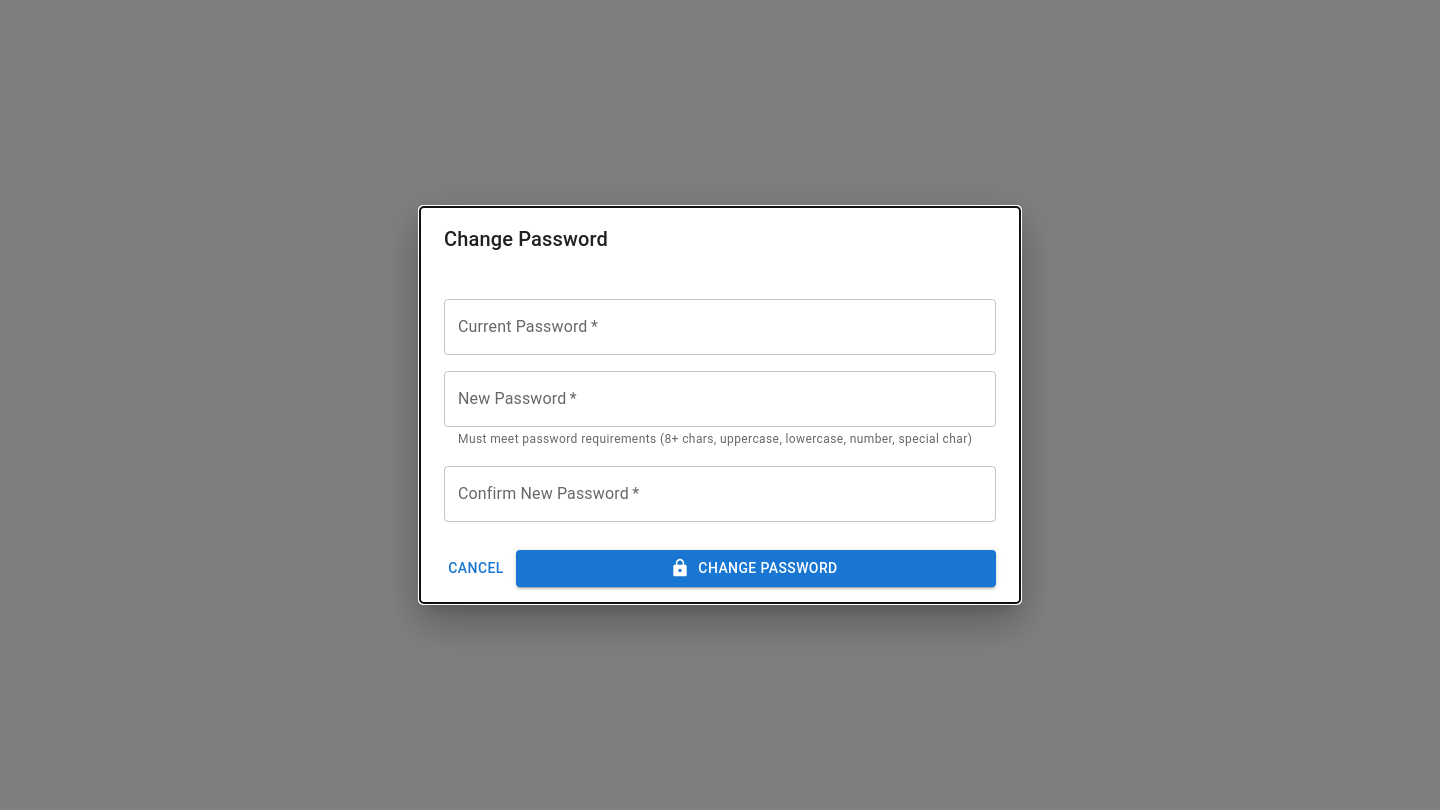
Test: ChangePasswordForm › should validate confirm password is required
Type "CurrentPass123!" into the password field labelled "Current Password *" at (720, 327), box [444, 299, 996, 355]
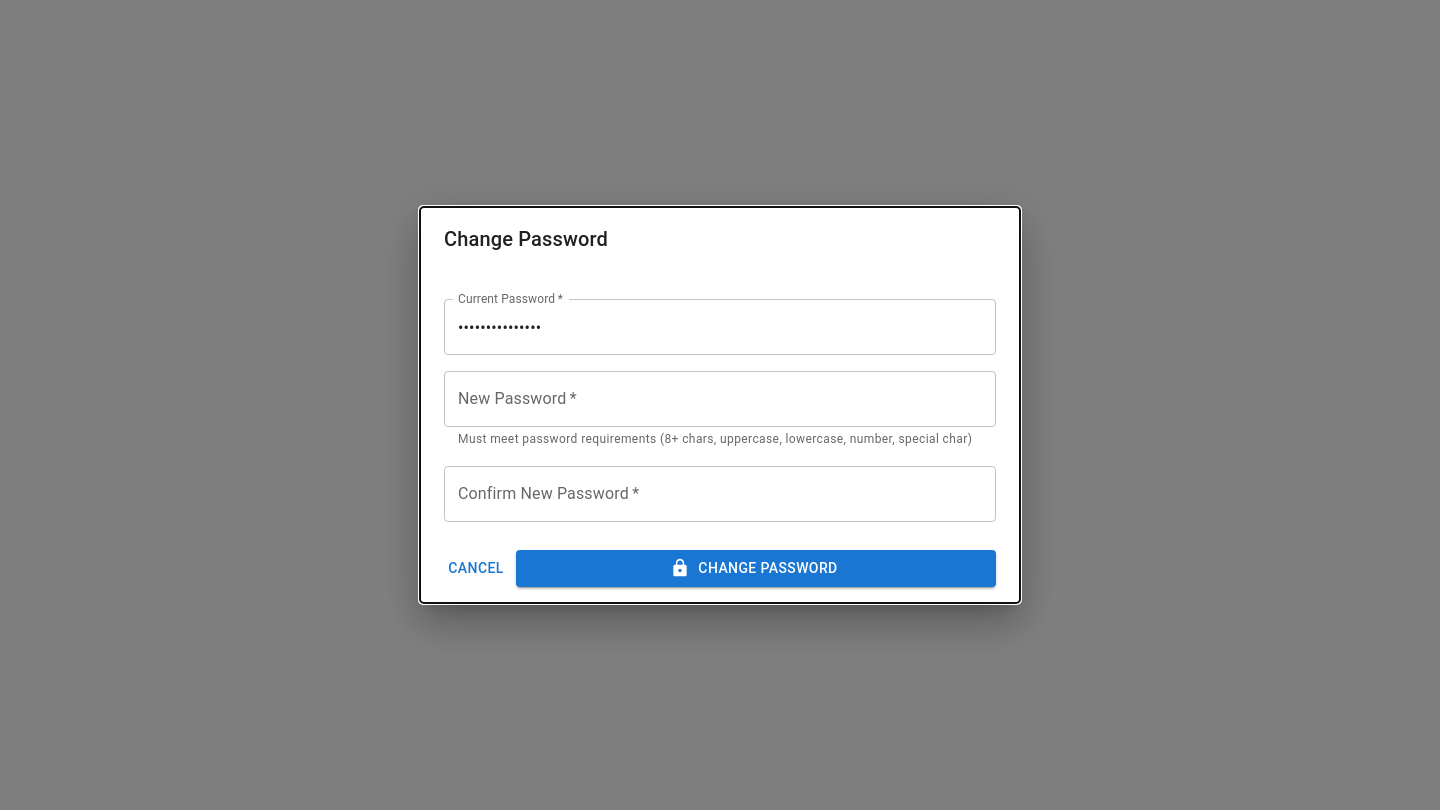
Type "NewPass123!" into the password field labelled "New Password *" at (720, 399), box [444, 371, 996, 427]
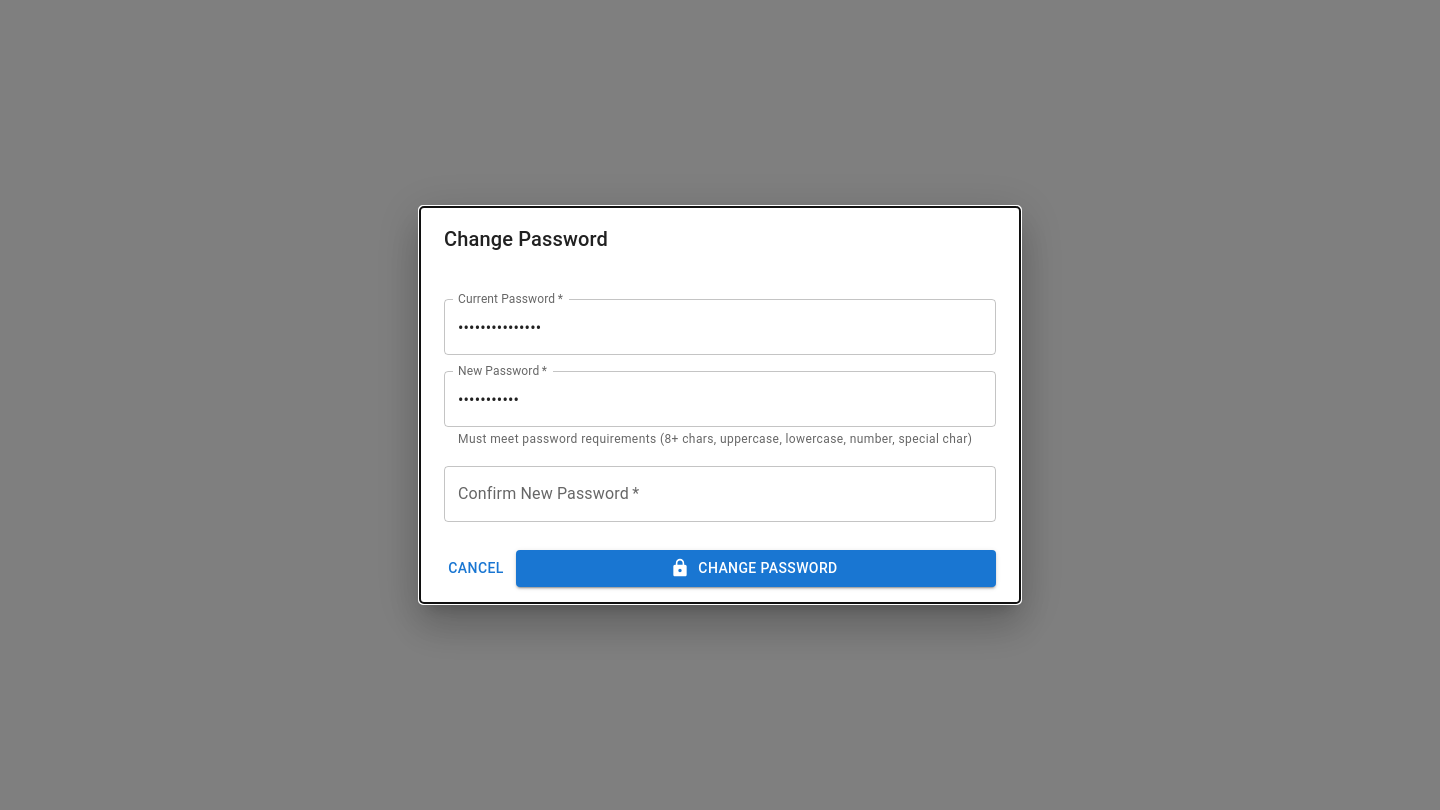
Submit the form named "change password", box [420, 271, 1020, 603]
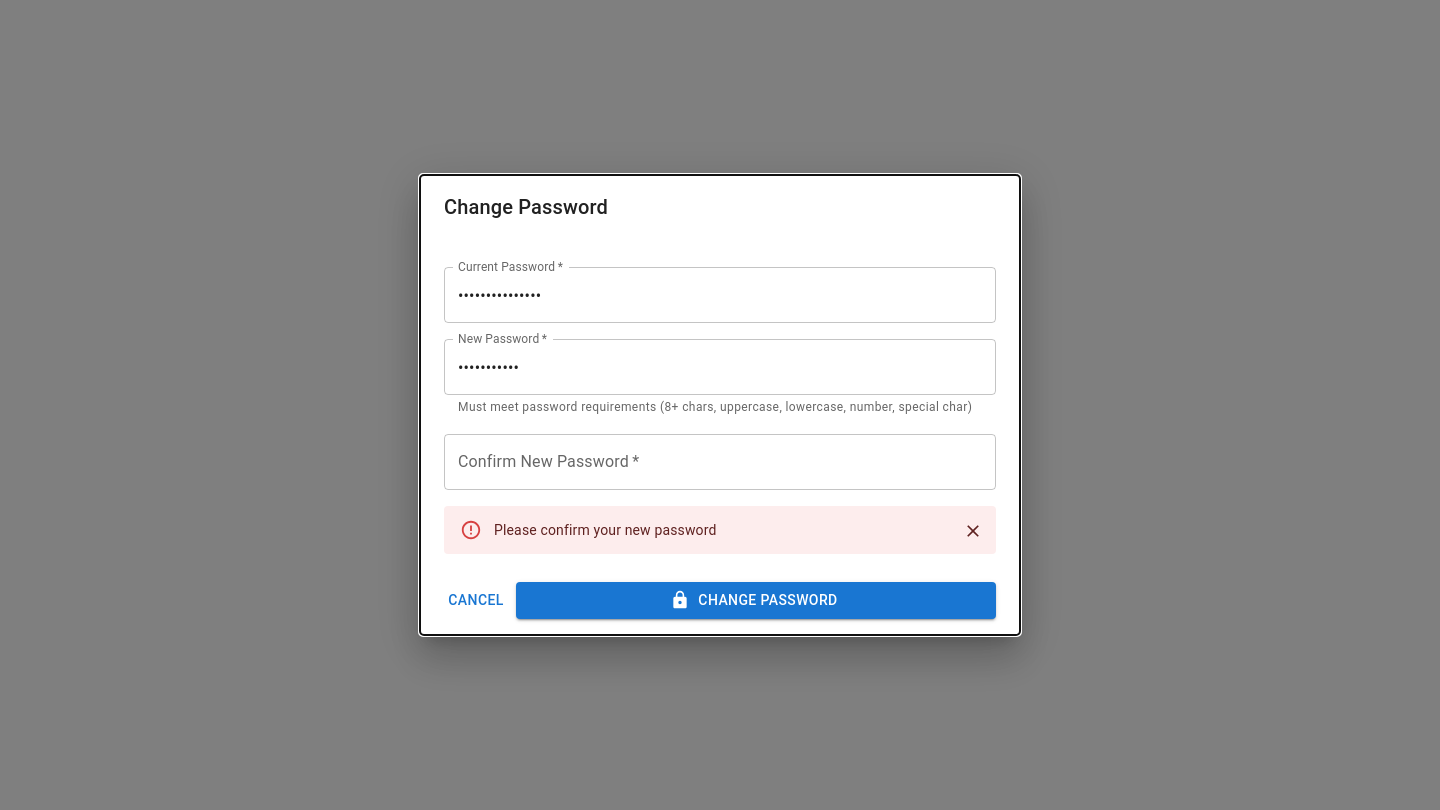
Expected: the text "Please confirm your new password" is shown, [494, 522, 716, 538]
